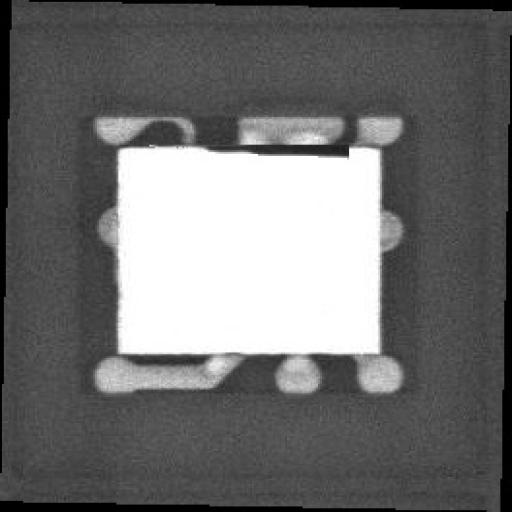DIE_BROKEN: (200, 137, 355, 158)
